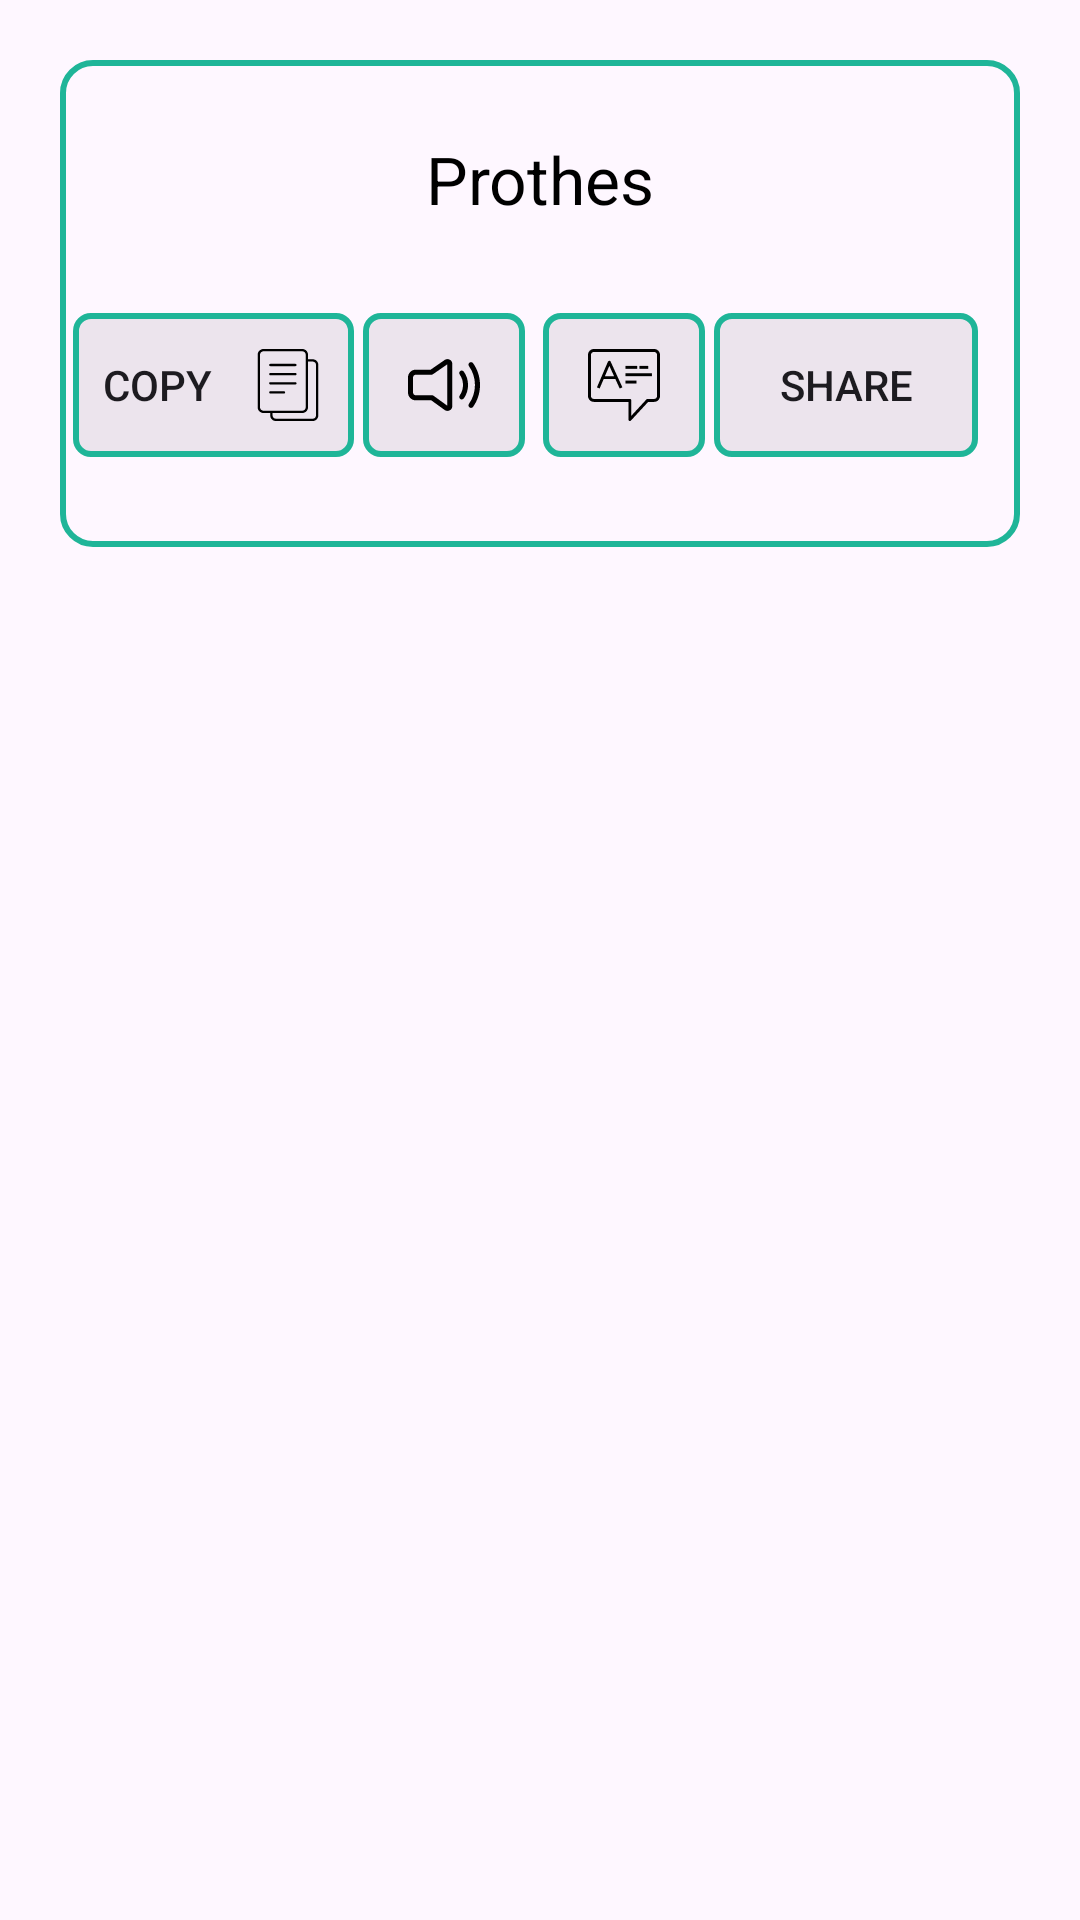

Icons on this 1080x1920 Android screen, each with its box as (x1,y1,x2,y2):
answer: (543,313,705,457)
speaker: (363,313,525,457)
